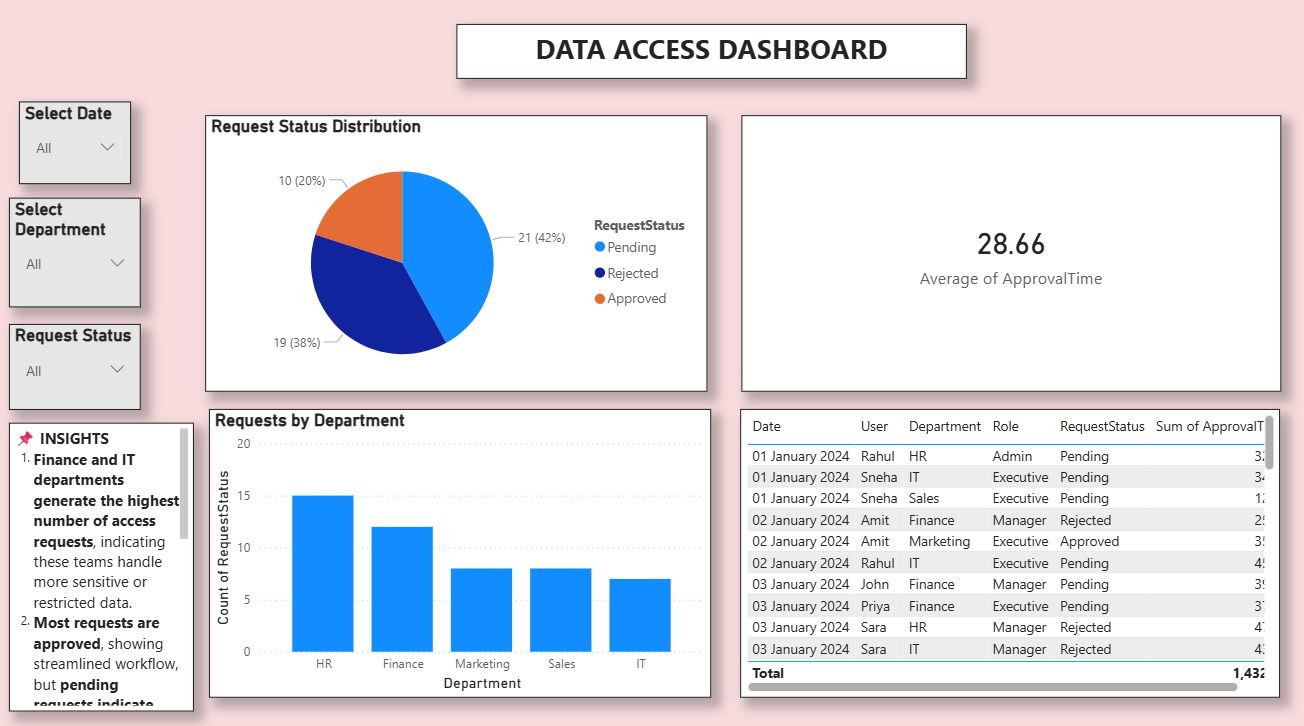

This screenshot's page, from the dashboard's own definition file:
{"tool":"powerbi","page":{"name":"Page 2","canvas":[1280,720],"ordinal":1},"visuals":[{"type":"pieChart","title":"Request Status Distribution","fields":{"Category":["DataAccess_small.RequestStatus"],"Y":["CountNonNull(DataAccess_small.RequestStatus)"]},"box":[201.7,118,491.3,270.3],"z":0},{"type":"clusteredColumnChart","title":"Requests by Department","fields":{"Category":["DataAccess_small.Department"],"Y":["CountNonNull(DataAccess_small.RequestStatus)"]},"box":[205.8,406.2,491.3,282.7],"z":1000},{"type":"card","fields":{"Values":["Avg(DataAccess_small.ApprovalTime)"]},"box":[725.9,118,528.3,270.3],"z":2000},{"type":"tableEx","fields":{"Values":["DataAccess_small.Date","DataAccess_small.User","DataAccess_small.Department","DataAccess_small.Role","DataAccess_small.RequestStatus","Sum(DataAccess_small.ApprovalTime)"]},"box":[724.5,406.2,528.3,282.7],"z":3000},{"type":"textbox","box":[447.3,28.8,499.5,53.5],"z":4000},{"type":"slicer","title":"Select Date","fields":{"Values":["DataAccess_small.Date"]},"box":[19.2,105.7,109.8,81],"z":5000},{"type":"slicer","title":"Select Department ","fields":{"Values":["DataAccess_small.Department"]},"box":[9.6,199,129,107],"z":6000},{"type":"slicer","title":"Request Status","fields":{"Values":["DataAccess_small.RequestStatus"]},"box":[9.6,322.5,129,83.7],"z":7000},{"type":"textbox","box":[9.6,419.9,181.1,282.7],"z":8000}]}

Visuals, with their boxes in screenshot pixels (x1, y1, x2, y2), scaled from the page's 1280x720 canvas onto the 1304x726 screenshot:
"Request Status Distribution" pieChart: locate(205, 119, 706, 392)
"Requests by Department" clusteredColumnChart: locate(210, 410, 710, 695)
card - Avg(DataAccess_small.ApprovalTime): locate(740, 119, 1278, 392)
tableEx - DataAccess_small.Date x DataAccess_small.User: locate(738, 410, 1276, 695)
textbox: locate(456, 29, 965, 83)
"Select Date" slicer: locate(20, 107, 131, 188)
"Select Department " slicer: locate(10, 201, 141, 309)
"Request Status" slicer: locate(10, 325, 141, 410)
textbox: locate(10, 423, 194, 708)
